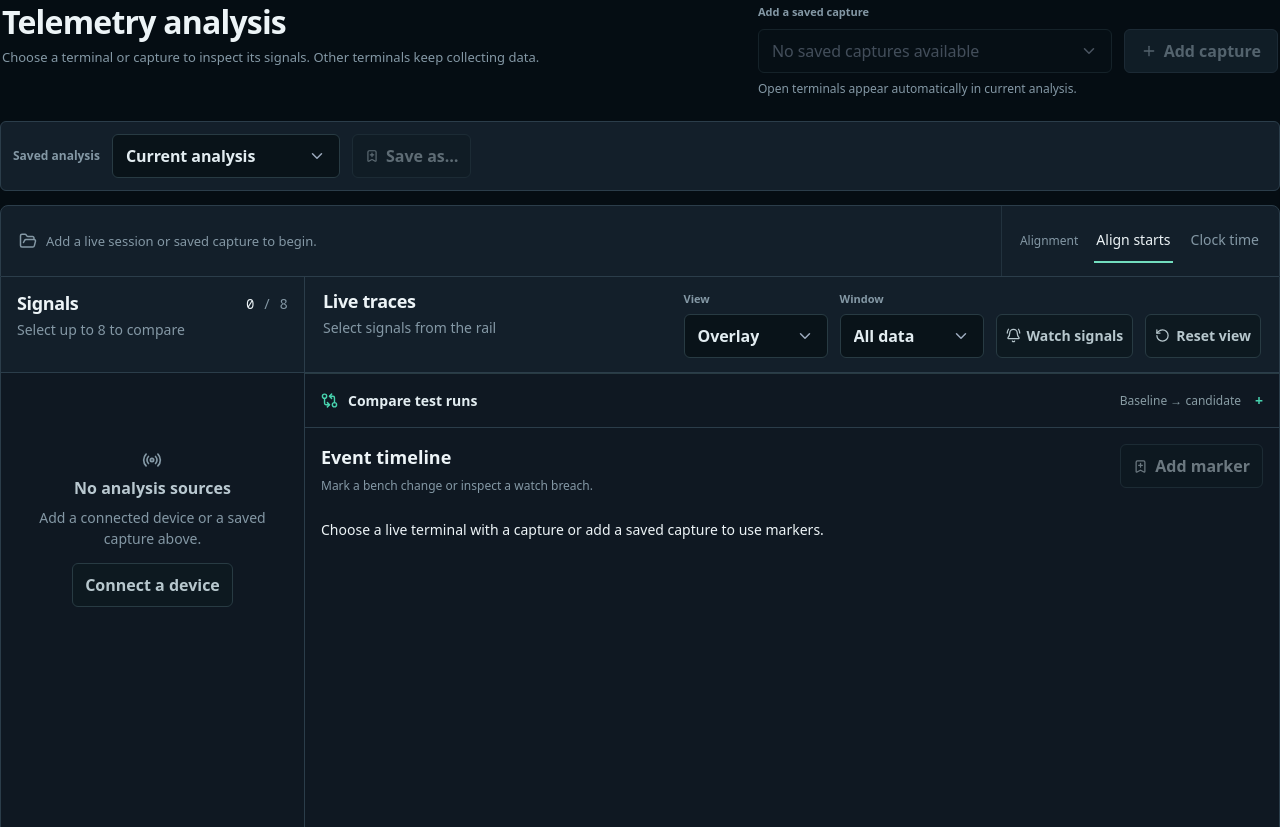
it: desktop watch reattachment › keeps retry accessible when the monitor fails before any signals or history exist
Click the button "Watch signals" at x=1064, y=336, box top-left (996, 314), bottom-right (1133, 358)
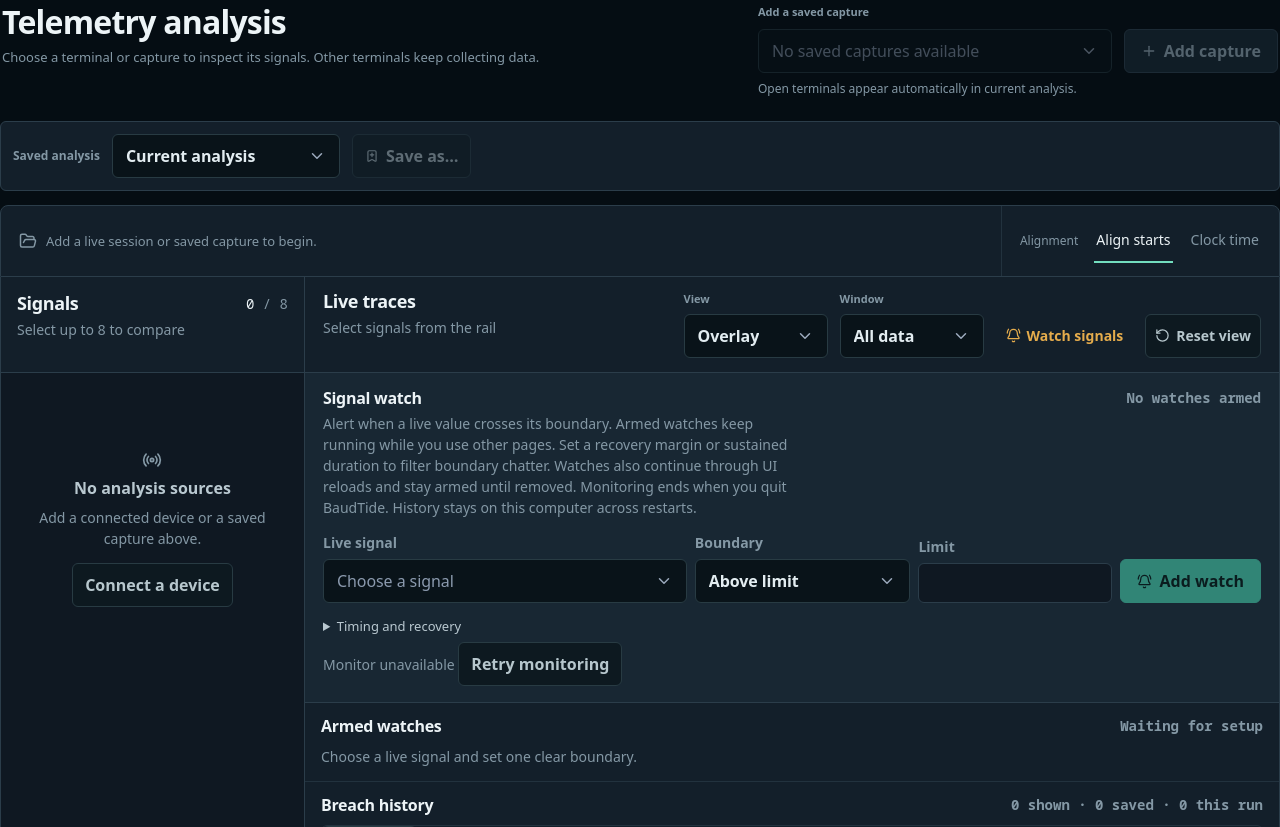
Check: the text "Monitor unavailable" is shown, box top-left (323, 655), bottom-right (455, 674)
Click the button "Retry monitoring" at x=540, y=664, box top-left (458, 642), bottom-right (622, 686)
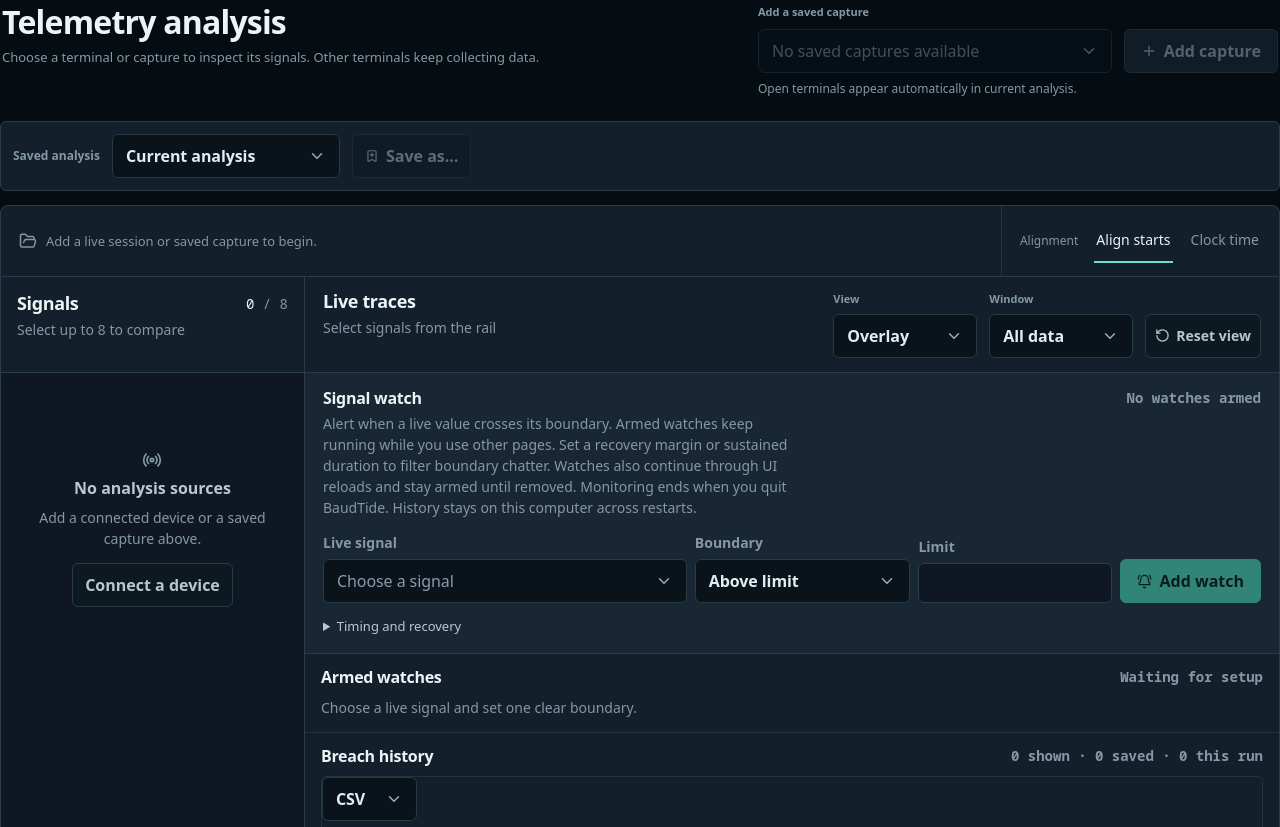
Check: the text "Monitor unavailable" is gone
